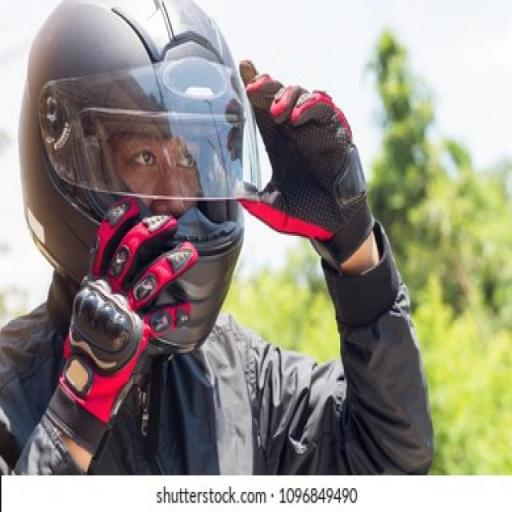Helmet: (20, 0, 258, 352)
